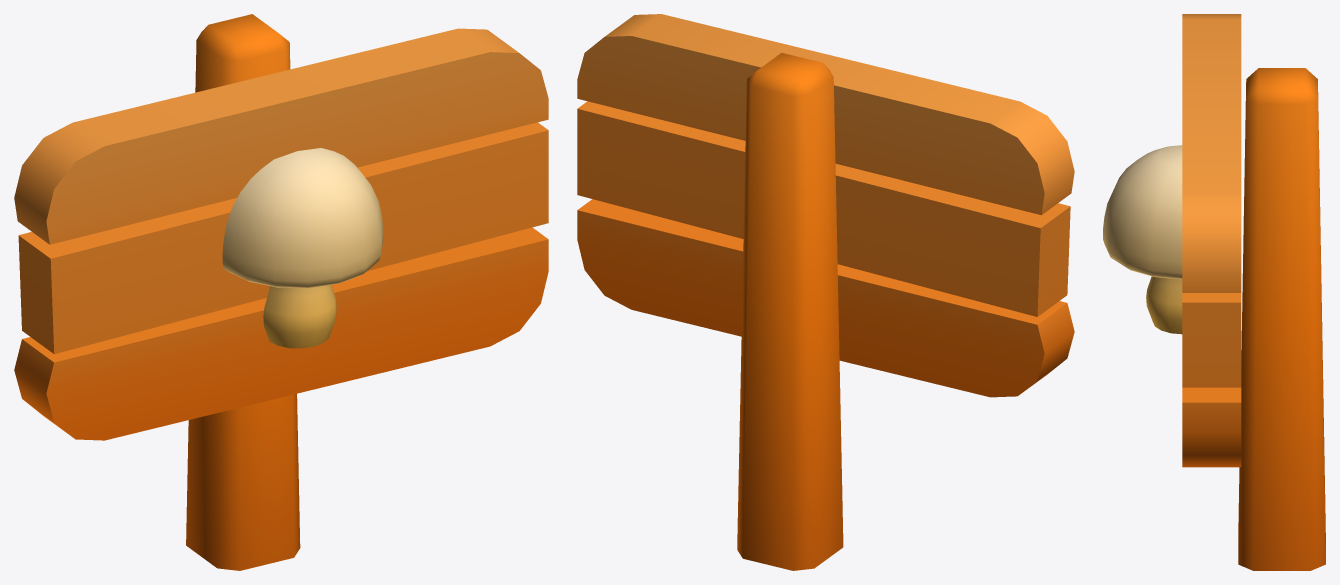
The model's file is Farm_Crop_Sign_Mashroom_02.glb.
3 views of the same model, side by side, from view 1: azimuth 30°, elevation 25°; view 2: azimuth 150°, elevation 25°; view 3: azimuth 270°, elevation 25° (orthographic). The views are drawn at different scales.
Visible parts, largest first — view 1: Farm_Crop_Sign_Mashroom_02; view 2: Farm_Crop_Sign_Mashroom_02; view 3: Farm_Crop_Sign_Mashroom_02.
Part boxes in pixels (box(x1,y1,x2,y2)): Farm_Crop_Sign_Mashroom_02: box(14, 14, 548, 570); Farm_Crop_Sign_Mashroom_02: box(577, 14, 1074, 570); Farm_Crop_Sign_Mashroom_02: box(1103, 14, 1325, 570).
Size of the model in its own units: 0.9011 by 0.888 by 0.378.
1 material, 1 textured.
